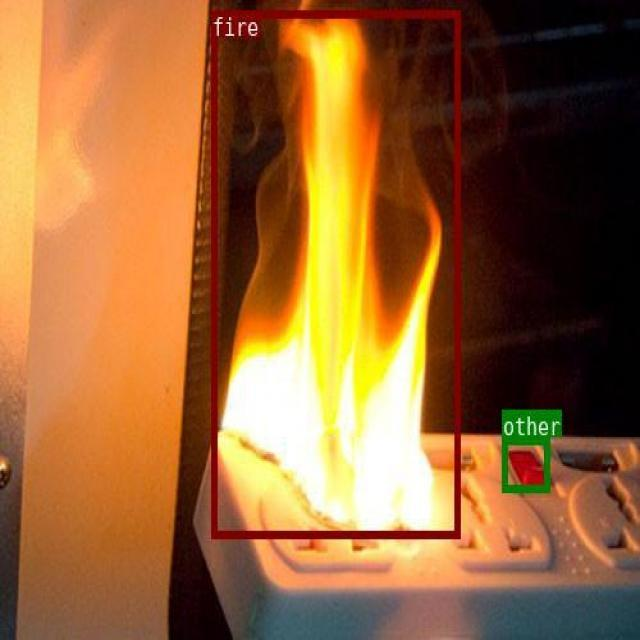fire: (211, 10, 459, 537)
